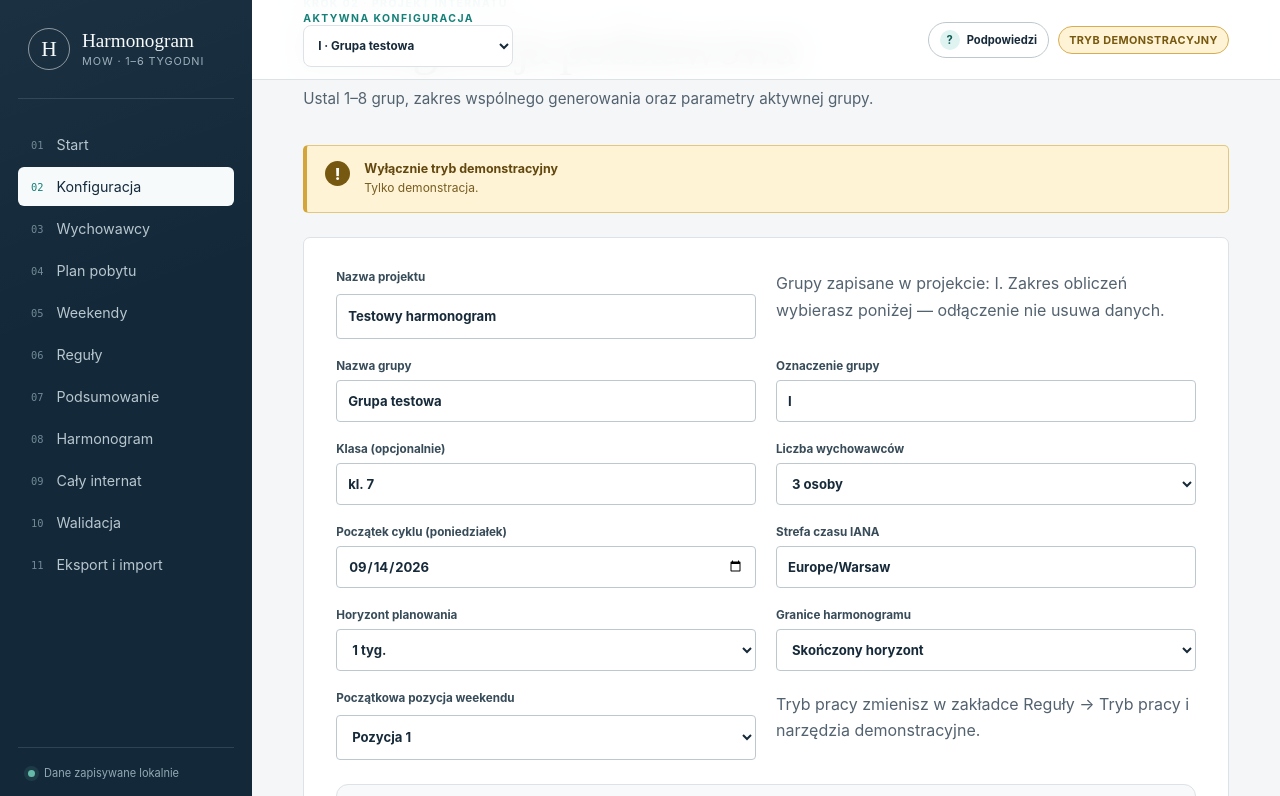
Scenario: główny przepływ interfejsu › waliduje formularz podstawowy przez Zod i React Hook Form
(page scrolled)
Step 1. Clear the field labelled "Nazwa grupy" → (546, 401), box [336,380,756,422]
(page scrolled)
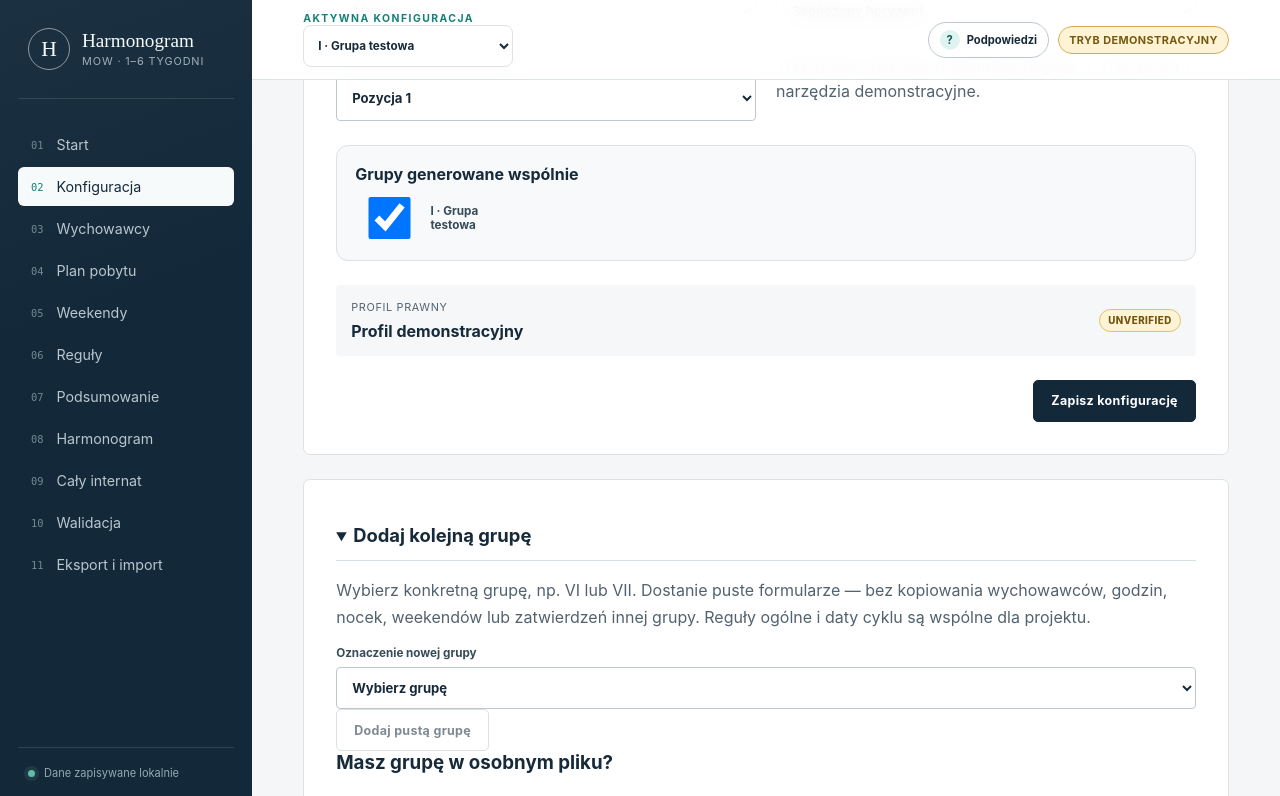
Step 2. Click the button "Zapisz konfigurację" → (1115, 401), box [1033,380,1196,422]
(page scrolled)
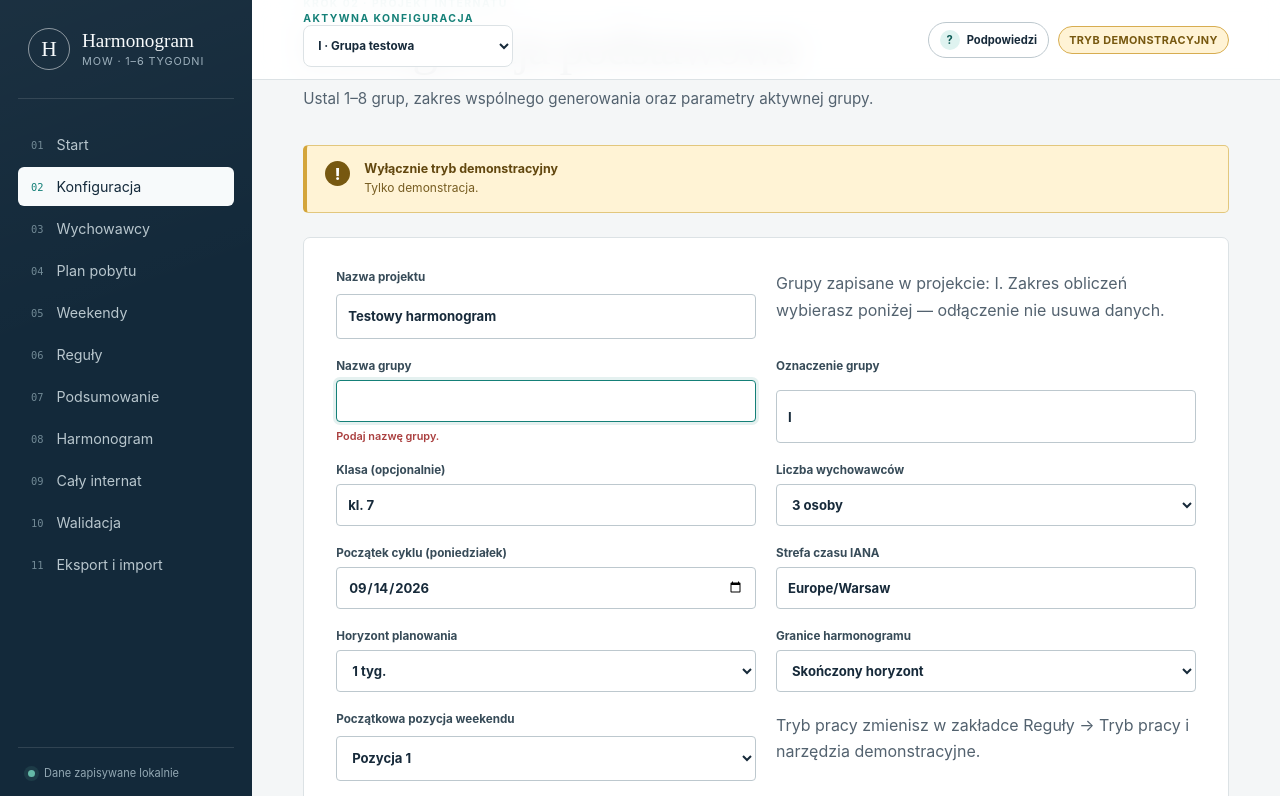
Check: the text "Podaj nazwę grupy." is shown, box [336,429,439,443]
